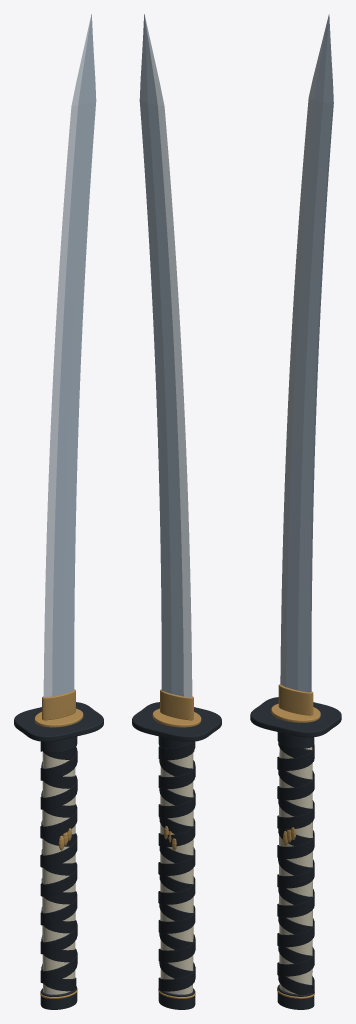
The model's file is Katana_FPS.fbx.
3 renders of one model, left to right at view 1: azimuth 30°, elevation 25°; view 2: azimuth 150°, elevation 25°; view 3: azimuth 330°, elevation 25°, orthographic.
Parts seen in each view (by area): view 1: Katana_FPS; view 2: Katana_FPS; view 3: Katana_FPS.
Part boxes in pixels (<box>): Katana_FPS: <box>14,14,103,1009</box>; Katana_FPS: <box>132,14,221,1009</box>; Katana_FPS: <box>250,14,341,1009</box>.
Bounding box in the file's own units: 7.83 × 101 × 6.32.
